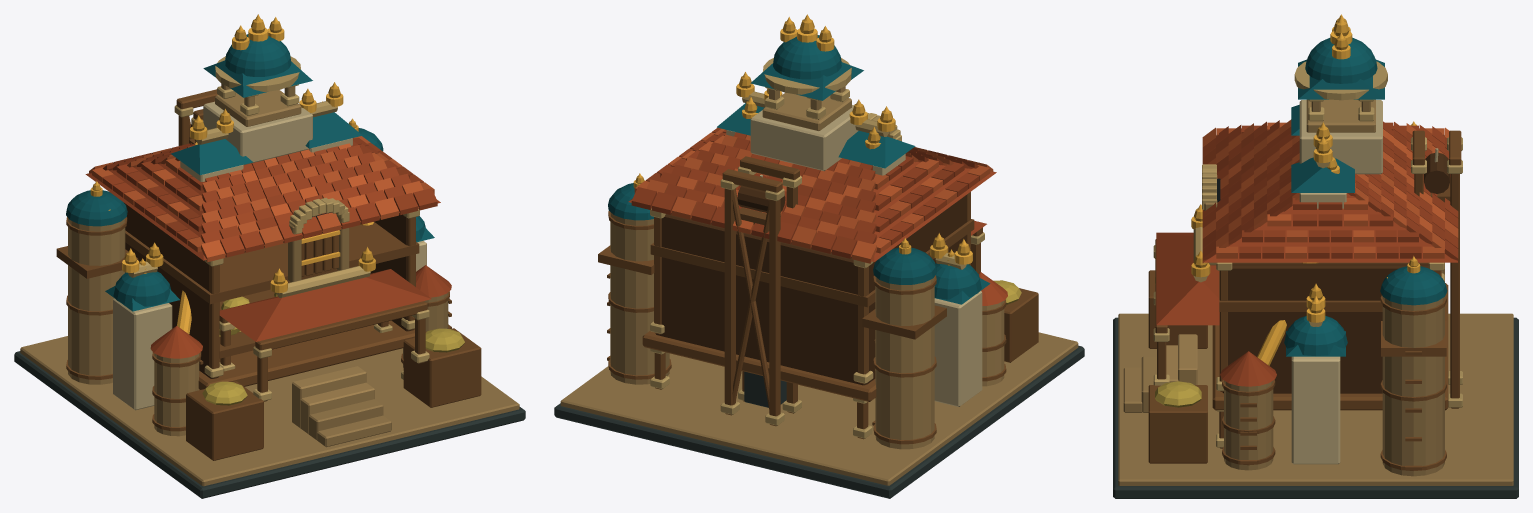
3 renders of one model, left to right at view 1: azimuth 30°, elevation 25°; view 2: azimuth 150°, elevation 25°; view 3: azimuth 270°, elevation 25°, orthographic. The views are drawn at different scales.
Parts seen in each view (by area): view 1: granary_15_structure, granary_15_metal; view 2: granary_15_structure, granary_15_metal; view 3: granary_15_structure, granary_15_metal.
Boxes of the visible parts, x1,y1,x2,y2 form: granary_15_structure: [14, 19, 525, 498]; granary_15_metal: [90, 14, 375, 333]; granary_15_structure: [554, 19, 1084, 498]; granary_15_metal: [633, 14, 972, 265]; granary_15_structure: [1113, 18, 1518, 498]; granary_15_metal: [1191, 14, 1420, 365].
Bounding box in the file's own units: 5.6 × 6.07 × 5.6.
